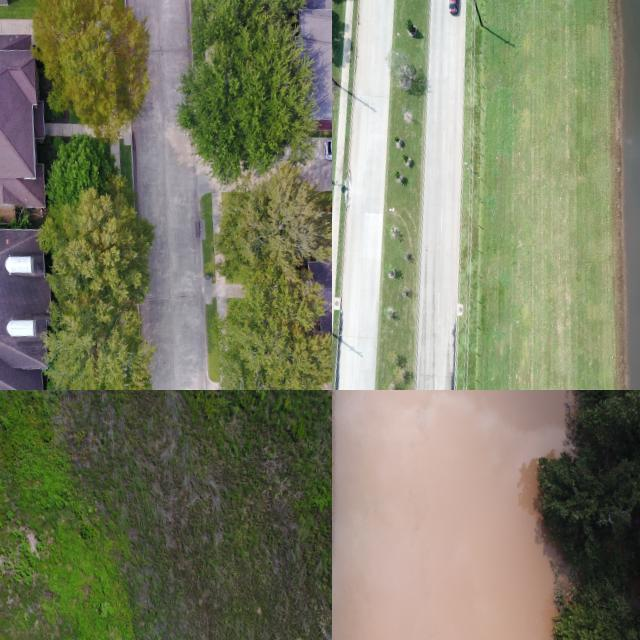fire: (332, 390, 566, 640)
